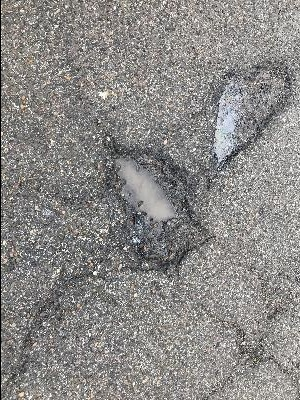pothole: (101, 136, 216, 275), (210, 56, 295, 169)
